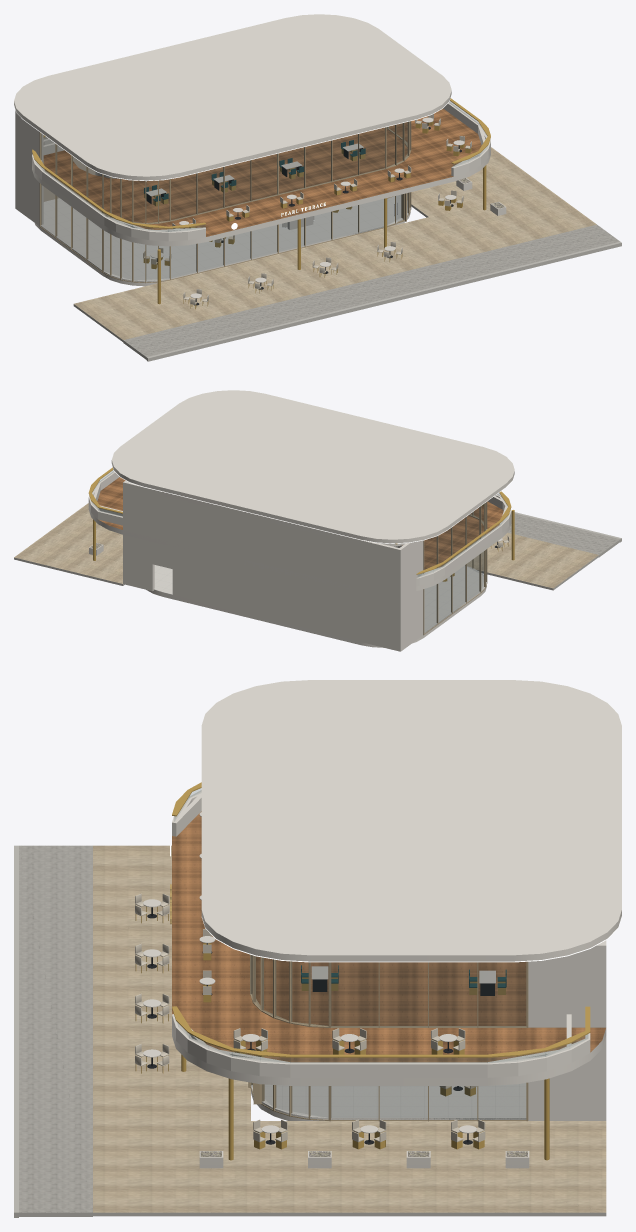
Rendered from pearl_terrace.glb.
3 renders of one model, top to bottom at view 1: azimuth 30°, elevation 25°; view 2: azimuth 150°, elevation 25°; view 3: azimuth 270°, elevation 25°, orthographic. The views are drawn at different scales.
Parts seen in each view (by area): view 1: P11_LOD0_FACADE_DETAILS_Balcony, P11_LOD1_FACADE_DETAILS_Balcony, P11_OPTIONAL_FORECOURT_FrontTerrace, P11_LOD0_BUILDING_EXTERIOR_BalconySlab, P11_SIDEWALK_FRONTAGE_Main, P11_LOD2_FACADE_DETAILS_Balcony, P11_LOD1_BUILDING_EXTERIOR_BalconySlab, P11_LOD0_BUILDING_INTERIOR_GroundSlab, P11_LOD1_BUILDING_INTERIOR_GroundSlab, P11_LOD2_BUILDING_INTERIOR_GroundSlab, P11_OPTIONAL_FORECOURT_SideTerrace, P11_LOD0_BUILDING_EXTERIOR_Shell (+7 smaller); view 2: P11_LOD0_FACADE_DETAILS_Balcony, P11_LOD0_BUILDING_EXTERIOR_Shell, P11_LOD1_FACADE_DETAILS_Balcony, P11_LOD2_FACADE_DETAILS_Balcony, P11_OPTIONAL_FORECOURT_SideTerrace, P11_OPTIONAL_FORECOURT_FrontTerrace, P11_LOD0_BUILDING_EXTERIOR_BalconySlab, P11_SIDEWALK_FRONTAGE_Main, P11_LOD0_BUILDING_INTERIOR_GroundSlab, P11_LOD1_BUILDING_INTERIOR_GroundSlab, P11_LOD1_BUILDING_EXTERIOR_BalconySlab, P11_LOD0_BUILDING_EXTERIOR_Roof (+2 smaller); view 3: P11_LOD0_FACADE_DETAILS_Balcony, P11_LOD1_FACADE_DETAILS_Balcony, P11_LOD2_FACADE_DETAILS_Balcony, P11_OPTIONAL_FORECOURT_FrontTerrace, P11_LOD0_BUILDING_EXTERIOR_BalconySlab, P11_OPTIONAL_FORECOURT_SideTerrace, P11_SIDEWALK_FRONTAGE_Main, P11_LOD0_BUILDING_EXTERIOR_Shell, P11_LOD1_BUILDING_EXTERIOR_BalconySlab, P11_LOD1_BUILDING_INTERIOR_GroundSlab, P11_LOD0_BUILDING_INTERIOR_GroundSlab, P11_LOD1_FURNITURE_Dining (+6 smaller).
Boxes of the visible parts, x1,y1,x2,y2 form: P11_LOD0_FACADE_DETAILS_Balcony: (14, 14, 490, 304); P11_LOD1_FACADE_DETAILS_Balcony: (14, 14, 490, 249); P11_OPTIONAL_FORECOURT_FrontTerrace: (73, 188, 596, 341); P11_LOD0_BUILDING_EXTERIOR_BalconySlab: (32, 108, 490, 246); P11_SIDEWALK_FRONTAGE_Main: (123, 224, 621, 361); P11_LOD2_FACADE_DETAILS_Balcony: (23, 15, 487, 303); P11_LOD1_BUILDING_EXTERIOR_BalconySlab: (43, 110, 479, 236); P11_LOD0_BUILDING_INTERIOR_GroundSlab: (34, 197, 410, 286); P11_LOD1_BUILDING_INTERIOR_GroundSlab: (43, 195, 409, 277); P11_LOD2_BUILDING_INTERIOR_GroundSlab: (43, 196, 399, 280); P11_OPTIONAL_FORECOURT_SideTerrace: (407, 147, 546, 217); P11_LOD0_BUILDING_EXTERIOR_Shell: (15, 110, 95, 225); P11_LOD0_FACADE_DETAILS_Balcony: (88, 390, 514, 586); P11_LOD0_BUILDING_EXTERIOR_Shell: (123, 480, 423, 651); P11_LOD1_FACADE_DETAILS_Balcony: (89, 390, 514, 578); P11_LOD2_FACADE_DETAILS_Balcony: (91, 391, 514, 575); P11_OPTIONAL_FORECOURT_SideTerrace: (14, 503, 124, 585); P11_OPTIONAL_FORECOURT_FrontTerrace: (467, 532, 598, 590); P11_LOD0_BUILDING_EXTERIOR_BalconySlab: (88, 477, 511, 590); P11_SIDEWALK_FRONTAGE_Main: (508, 511, 621, 557); P11_LOD0_BUILDING_INTERIOR_GroundSlab: (146, 565, 486, 647); P11_LOD1_BUILDING_INTERIOR_GroundSlab: (161, 566, 486, 632); P11_LOD1_BUILDING_EXTERIOR_BalconySlab: (97, 481, 499, 568); P11_LOD0_BUILDING_EXTERIOR_Roof: (162, 492, 405, 546); P11_LOD0_FACADE_DETAILS_Balcony: (172, 680, 621, 1160); P11_LOD1_FACADE_DETAILS_Balcony: (172, 680, 621, 1064); P11_LOD2_FACADE_DETAILS_Balcony: (172, 680, 621, 1071); P11_OPTIONAL_FORECOURT_FrontTerrace: (93, 845, 250, 1216); P11_LOD0_BUILDING_EXTERIOR_BalconySlab: (172, 811, 606, 1085); P11_OPTIONAL_FORECOURT_SideTerrace: (251, 1121, 606, 1216); P11_SIDEWALK_FRONTAGE_Main: (14, 845, 92, 1217); P11_LOD0_BUILDING_EXTERIOR_Shell: (528, 940, 606, 1120); P11_LOD1_BUILDING_EXTERIOR_BalconySlab: (172, 813, 604, 1062); P11_LOD1_BUILDING_INTERIOR_GroundSlab: (251, 1083, 526, 1117); P11_LOD0_BUILDING_INTERIOR_GroundSlab: (251, 1085, 526, 1120); P11_LOD1_FURNITURE_Dining: (199, 813, 506, 1096).
Size of what is drawn, in the model's own units: 44 by 10.95 by 30.8.
Materials: 27 (6 with a texture image).
